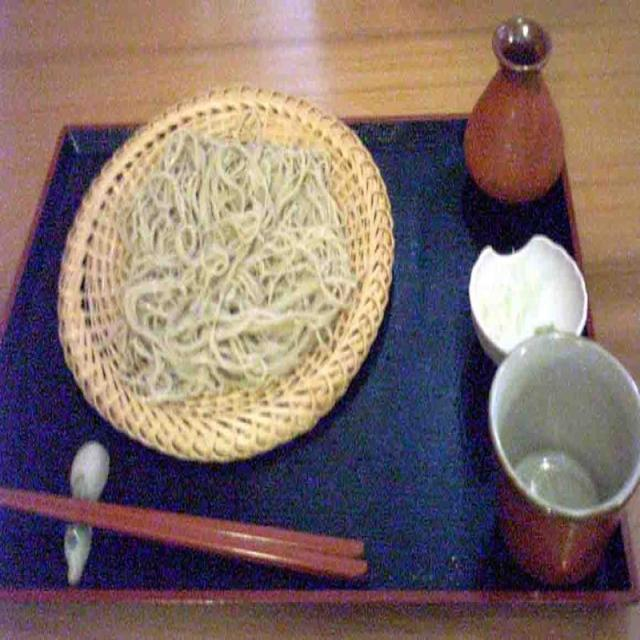面条主食: (45, 70, 407, 476)
